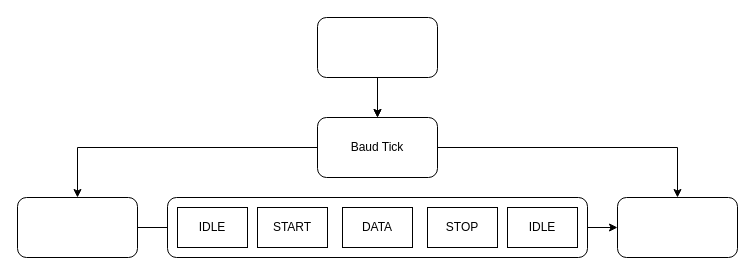
Some shapes in this 755 by 275 pixel diagram are drawn without their labels. The box of each missing label's shape, as (x1, y1, x2, y2) in pixels:
Baud Generator: (316, 16, 438, 78)
RX: (616, 196, 738, 258)
TX: (16, 196, 138, 258)
